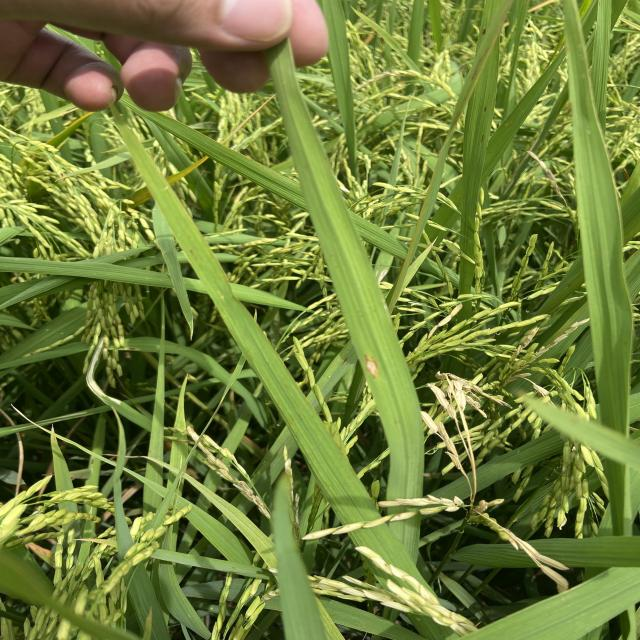Dao on: (364, 354, 379, 379)
